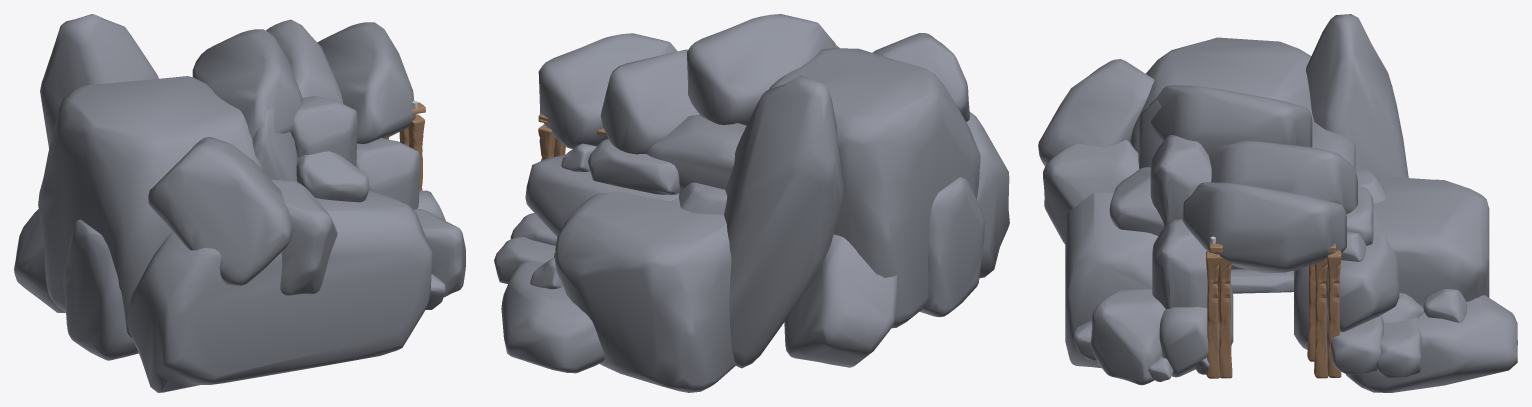
The model's file is Ore_Mine.glb.
The picture shows the model from 3 angles, left to right: view 1: azimuth 30°, elevation 25°; view 2: azimuth 150°, elevation 25°; view 3: azimuth 270°, elevation 25°; orthographic projection. The views are drawn at different scales.
Parts seen in each view (by area): view 1: Rock_space.019, Rock_space.014, Rock_space.021, Rock_space.028, Rock_space.027, Rock_space.018, Rock_space.006, Rock_space.020, Rock_space.017, Rock_space, Rock_space.016, Rock_space.022 (+6 smaller); view 2: Rock_space.030, Rock_space.014, Rock_space.018, Rock_space.027, Rock_space.037, Rock_space.028, Rock_space.031, Rock_space.016, Rock_space.006, Rock_space.015, Rock_space.009, Rock_space.019 (+8 smaller); view 3: Rock_space.030, Rock_space.028, Rock_space.018, Rock_space.019, Rock_space.014, Rock_space.031, Rock_space.027, Rock_space.021, Rock_space.016, Rock_space.004, Rock_space.020, Rock_space.009 (+21 smaller).
Part boxes in pixels (x1,y1,x2,y2): Rock_space.019: [126, 190, 432, 392]; Rock_space.014: [38, 76, 263, 337]; Rock_space.021: [148, 137, 292, 285]; Rock_space.028: [317, 22, 415, 143]; Rock_space.027: [192, 29, 302, 138]; Rock_space.018: [40, 14, 158, 148]; Rock_space.006: [63, 219, 138, 360]; Rock_space.020: [270, 179, 337, 295]; Rock_space.017: [291, 95, 357, 166]; Rock_space: [356, 138, 420, 209]; Rock_space.016: [266, 19, 343, 103]; Rock_space.022: [296, 151, 368, 202]; Rock_space.030: [555, 191, 735, 392]; Rock_space.014: [769, 48, 980, 328]; Rock_space.018: [724, 75, 843, 368]; Rock_space.027: [687, 14, 836, 125]; Rock_space.037: [784, 234, 897, 367]; Rock_space.028: [538, 33, 677, 148]; Rock_space.031: [501, 260, 604, 373]; Rock_space.016: [600, 49, 699, 154]; Rock_space.006: [919, 177, 984, 317]; Rock_space.015: [646, 114, 746, 189]; Rock_space.009: [525, 156, 679, 236]; Rock_space.019: [966, 112, 1009, 278]; Rock_space.030: [1294, 177, 1489, 356]; Rock_space.028: [1182, 182, 1346, 272]; Rock_space.018: [1306, 14, 1408, 181]; Rock_space.019: [1065, 192, 1158, 368]; Rock_space.014: [1130, 37, 1313, 269]; Rock_space.031: [1346, 295, 1517, 392]; Rock_space.027: [1149, 85, 1312, 154]; Rock_space.021: [1038, 59, 1154, 166]; Rock_space.016: [1208, 140, 1357, 213]; Rock_space.004: [1090, 288, 1165, 385]; Rock_space.020: [1043, 140, 1139, 244]; Rock_space.009: [1326, 207, 1399, 331].
Size of the model in its own units: 11.02 by 8.26 by 13.03.
